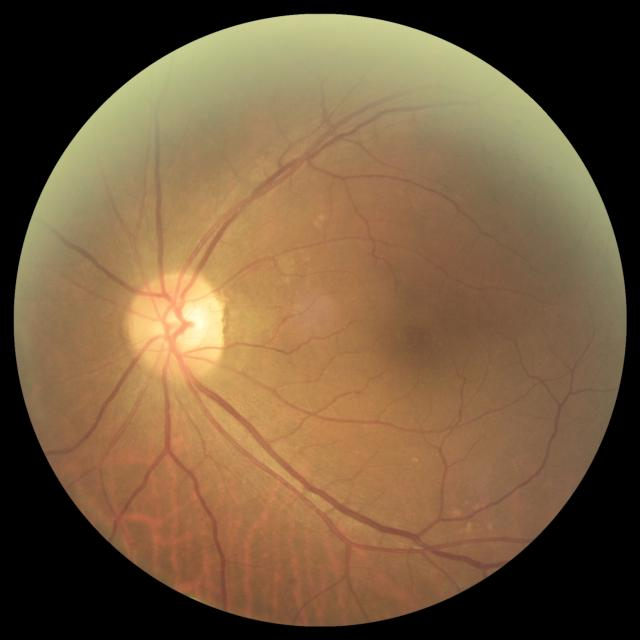OC: (161, 302, 210, 351)
OD: (127, 272, 225, 379)
